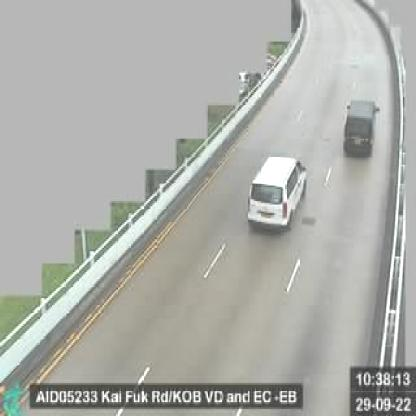Car: (244, 151, 310, 234), (337, 97, 378, 156)
